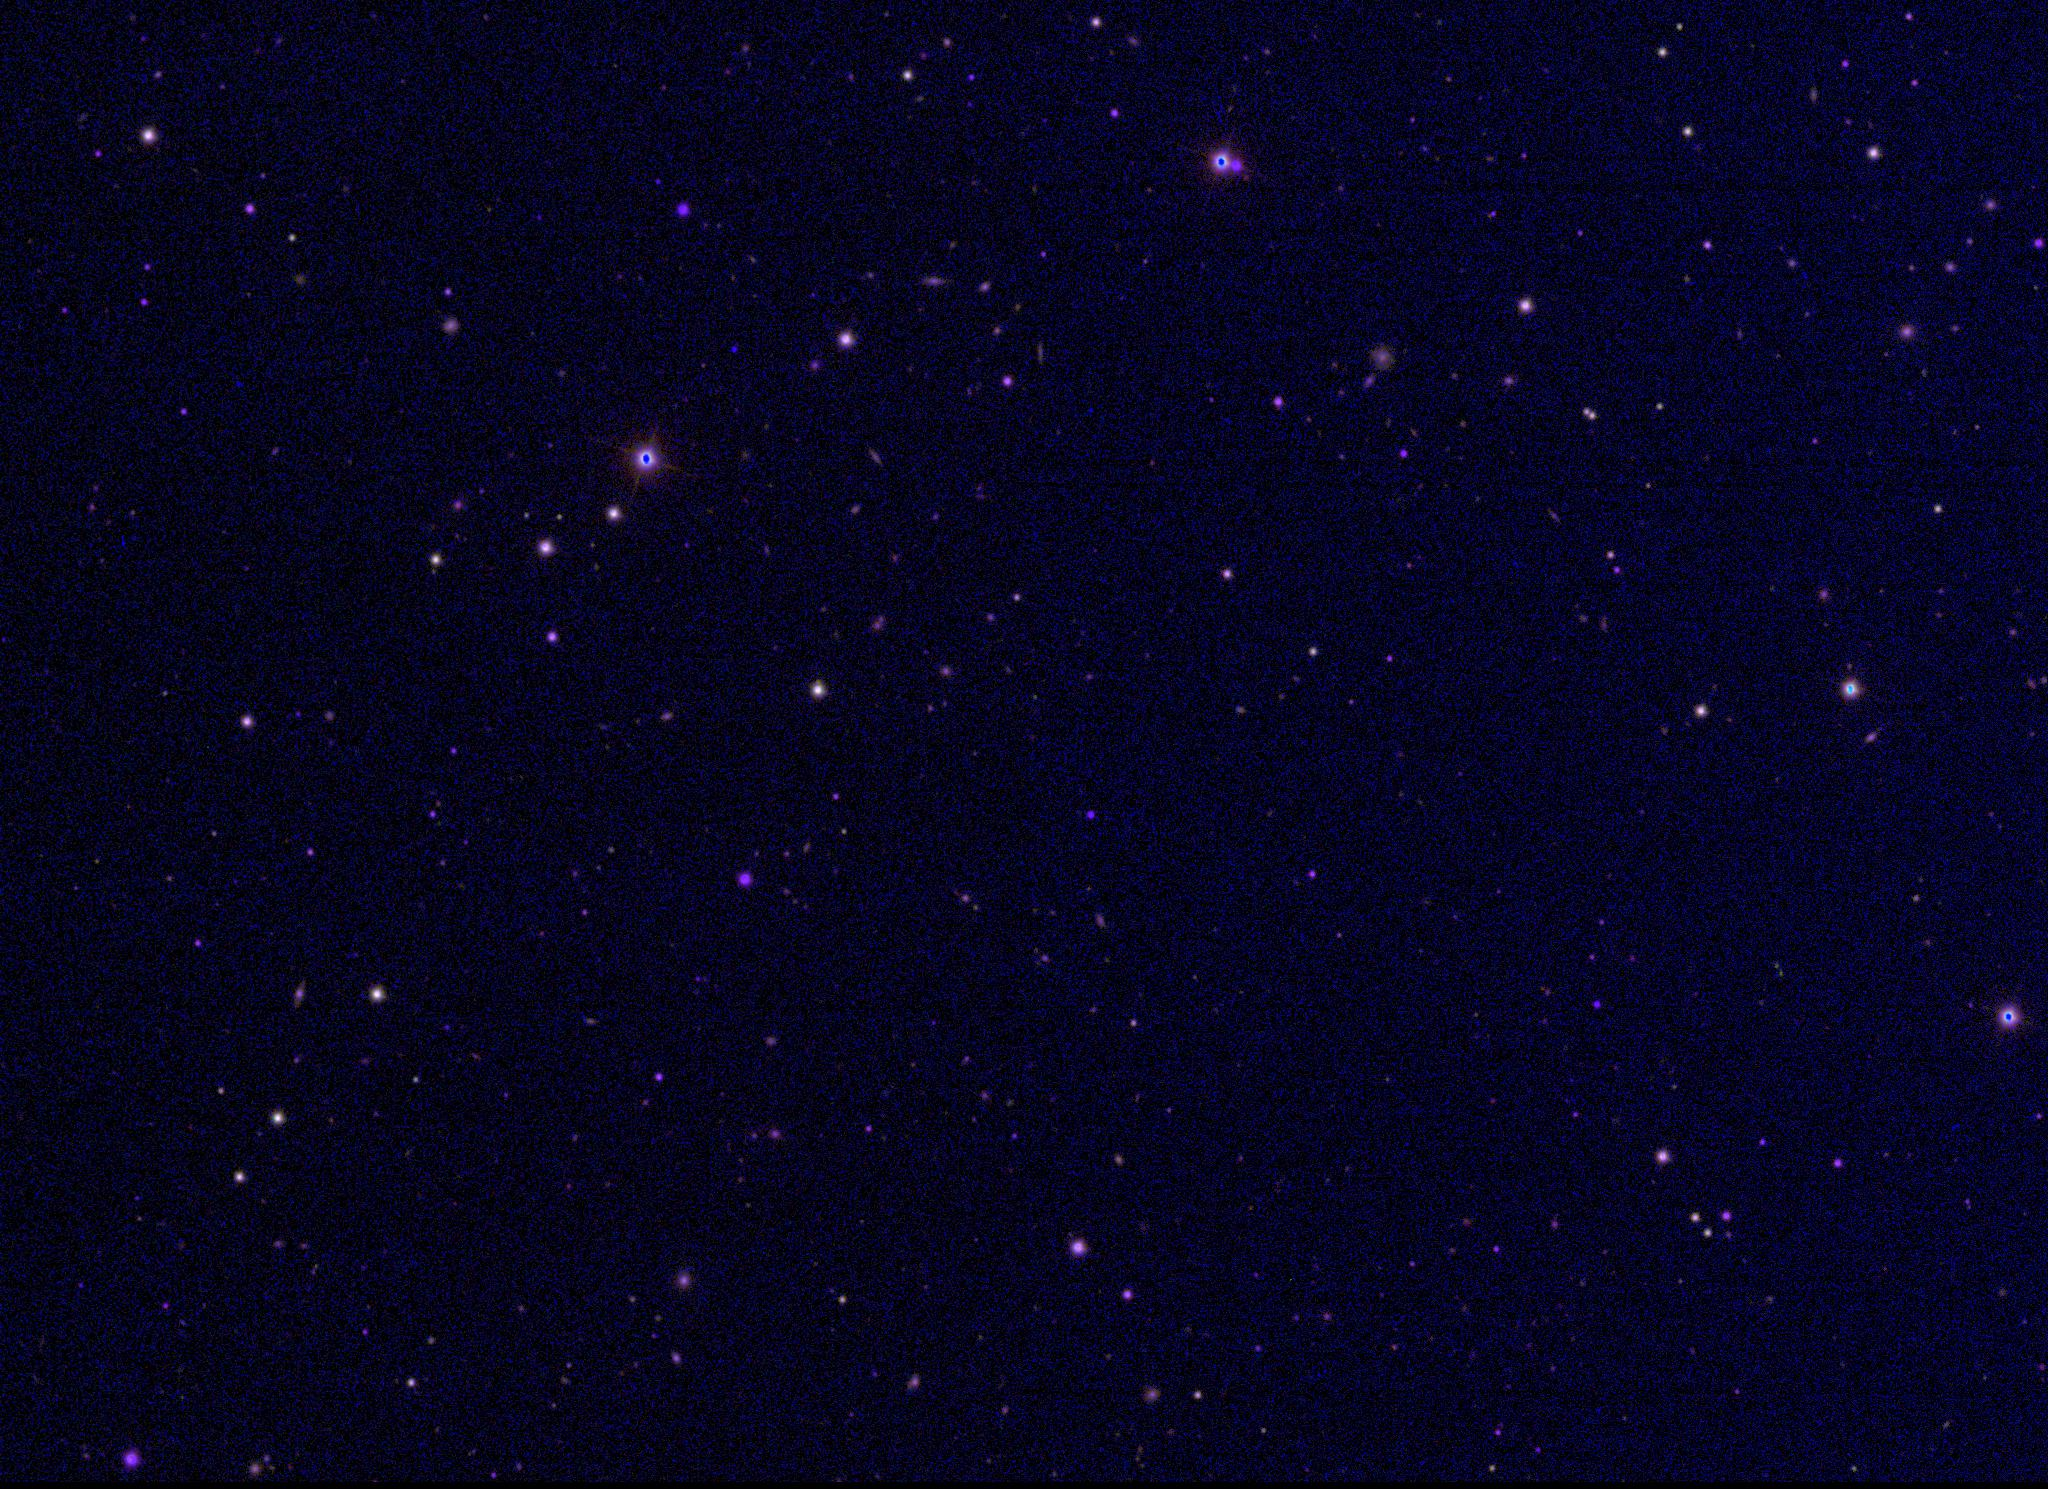L: (727, 342, 741, 356)
